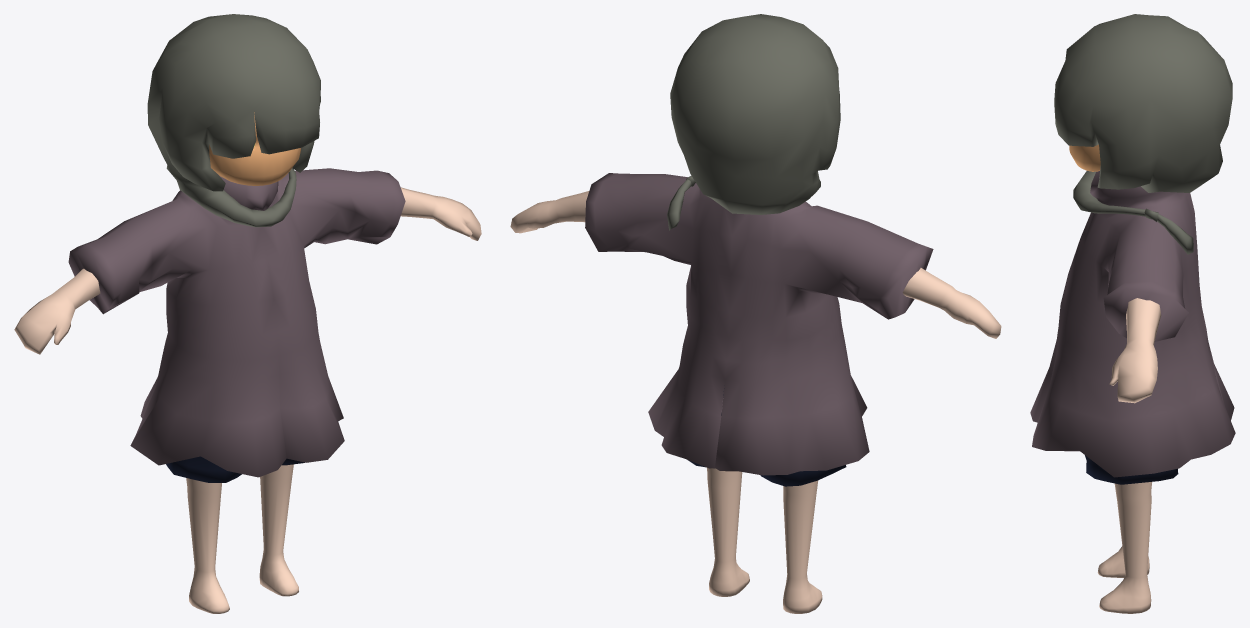
The model's file is FinalChar1.fbx.
3 renders of one model, left to right at view 1: azimuth 30°, elevation 25°; view 2: azimuth 150°, elevation 25°; view 3: azimuth 270°, elevation 25°, orthographic. The views are drawn at different scales.
Visible parts, largest first — view 1: DRESS_POSW_A, hair_pray, Leg_R, Leg_L, Hand_A_Right, mask, Hand_A_L, pant2.001; view 2: DRESS_POSW_A, hair_pray, Leg_L, Leg_R, Hand_A_Right, Hand_A_L, pant2.001; view 3: DRESS_POSW_A, hair_pray, Leg_L, Hand_A_L, pant2, mask, Leg_R.
Part boxes in pixels (<box>): DRESS_POSW_A: <box>68,168,405,477</box>; hair_pray: <box>147,14,320,227</box>; Leg_R: <box>186,478,229,613</box>; Leg_L: <box>259,464,298,596</box>; Hand_A_Right: <box>14,268,100,354</box>; mask: <box>209,112,300,185</box>; Hand_A_L: <box>400,187,481,240</box>; pant2.001: <box>166,456,241,482</box>; DRESS_POSW_A: <box>585,173,933,475</box>; hair_pray: <box>667,14,840,230</box>; Leg_L: <box>707,467,749,596</box>; Leg_R: <box>783,480,822,613</box>; Hand_A_Right: <box>902,268,1001,338</box>; Hand_A_L: <box>510,191,589,233</box>; pant2.001: <box>760,465,846,486</box>; DRESS_POSW_A: <box>1030,171,1235,477</box>; hair_pray: <box>1054,14,1232,254</box>; Leg_L: <box>1099,482,1152,613</box>; Hand_A_L: <box>1109,298,1161,403</box>; pant2: <box>1085,455,1178,484</box>; mask: <box>1069,144,1100,171</box>; Leg_R: <box>1097,546,1149,577</box>.
Bounding box in the file's own units: 662 × 771 × 254.
